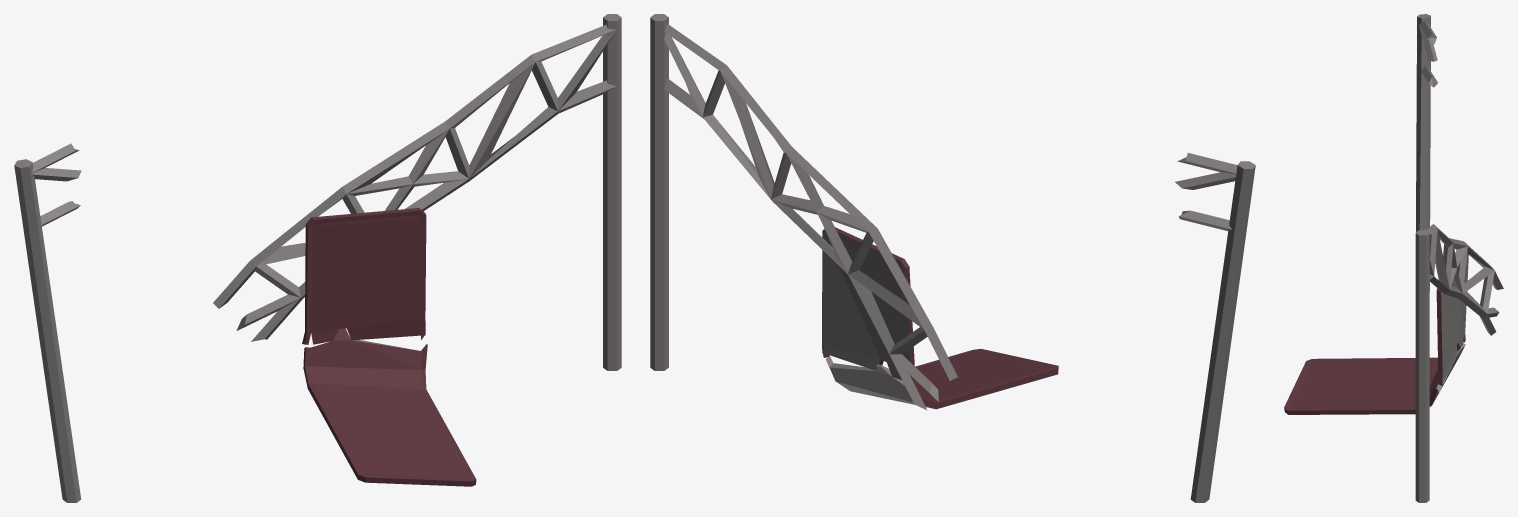
File: road-sign-green-apocalypse.fbx
3 renders of one model, left to right at view 1: azimuth 30°, elevation 25°; view 2: azimuth 150°, elevation 25°; view 3: azimuth 270°, elevation 25°, orthographic. The views are drawn at different scales.
Parts seen in each view (by area): view 1: road-sign-green-apocalypse; view 2: road-sign-green-apocalypse; view 3: road-sign-green-apocalypse.
Boxes of the visible parts, x1=… form: road-sign-green-apocalypse: x1=14, y1=14, x2=621, y2=502; road-sign-green-apocalypse: x1=650, y1=14, x2=1255, y2=502; road-sign-green-apocalypse: x1=1284, y1=14, x2=1503, y2=502.
Bounding box in the file's own units: 11.15 × 6.19 × 4.61.
